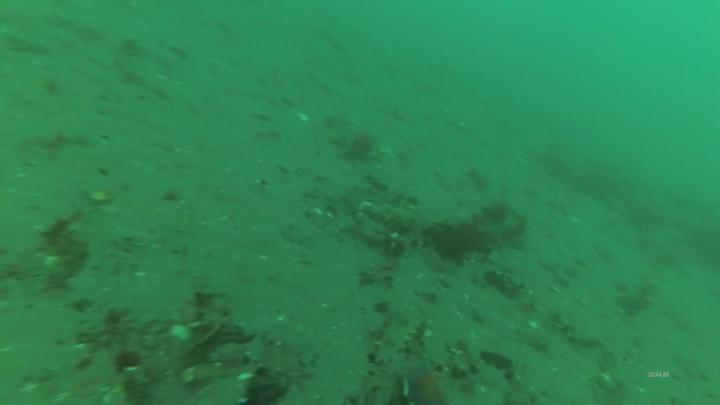echinus: (434, 220, 496, 266)
starfish: (395, 361, 451, 405)
